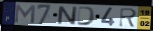4: (100, 7, 118, 27)
7: (36, 4, 53, 26)
D: (76, 6, 97, 27)
M: (14, 4, 37, 25)
N: (57, 6, 78, 26)
R: (118, 7, 138, 28)
